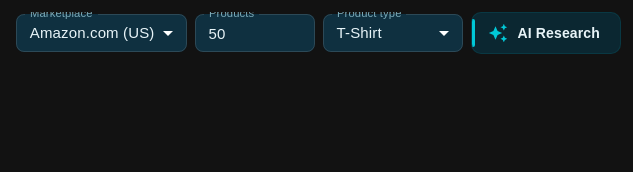
it: ResearchTriggerButton › product limit input › clamps values below 10 up to 10 on blur
Replace the text in the number field labelled "Products" with "5": (254,33) [194,14,314,52]
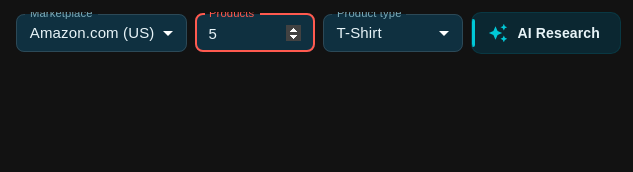
Press Tab
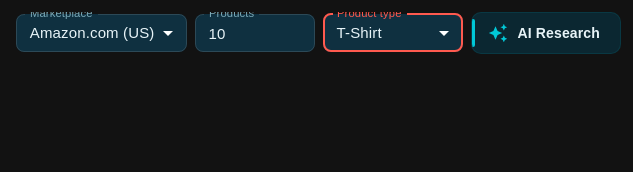
Expected: the number field labelled "Products" holds "10", [194,14,314,52]
